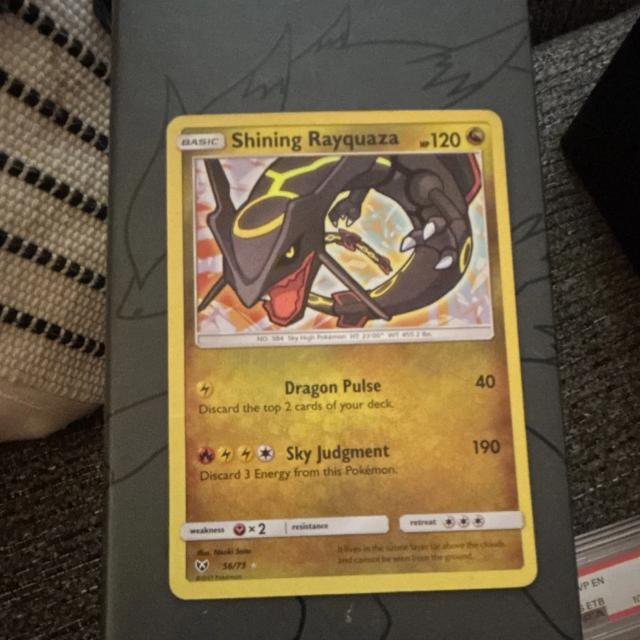Card: (161, 105, 542, 604)
Name: (226, 126, 403, 155)
